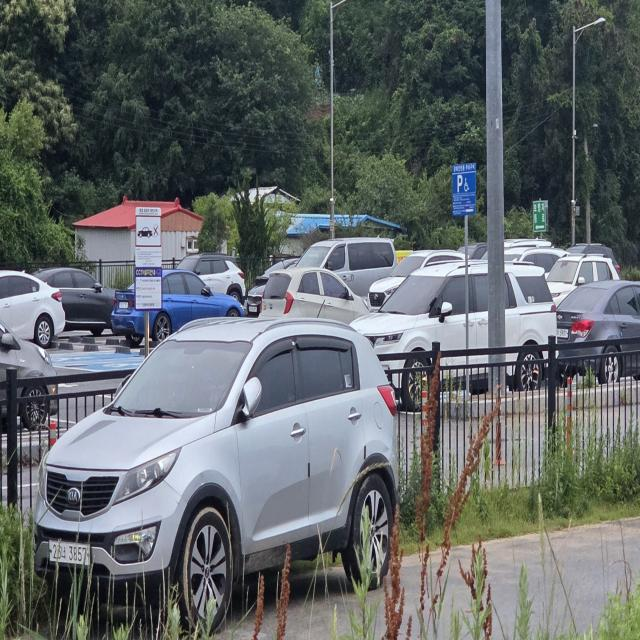car: (22, 303, 413, 640), (359, 255, 566, 408), (243, 253, 381, 374), (106, 259, 243, 369), (549, 265, 640, 406), (0, 308, 62, 428), (0, 261, 73, 361)
